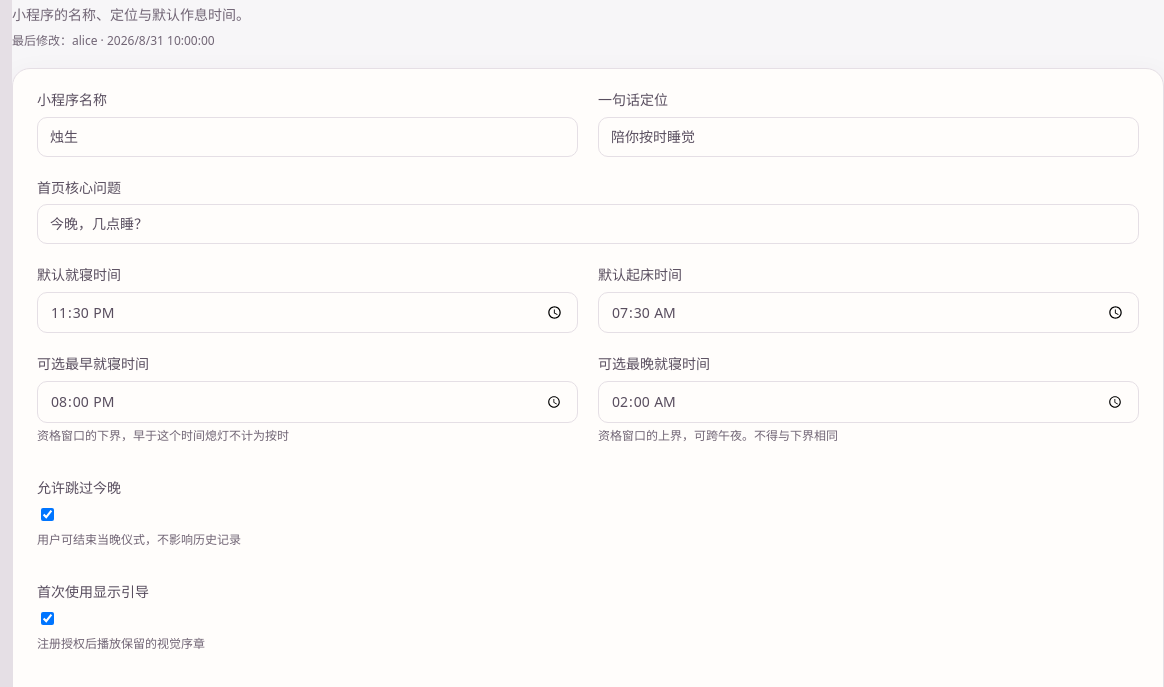
Test: 基础设置页 › 撤销改动退回原值
Replace the text in the field labelled "一句话定位" with "改坏了" at {"x": 868, "y": 137}, box x1=598 y1=117 x2=1139 y2=157
(page scrolled)
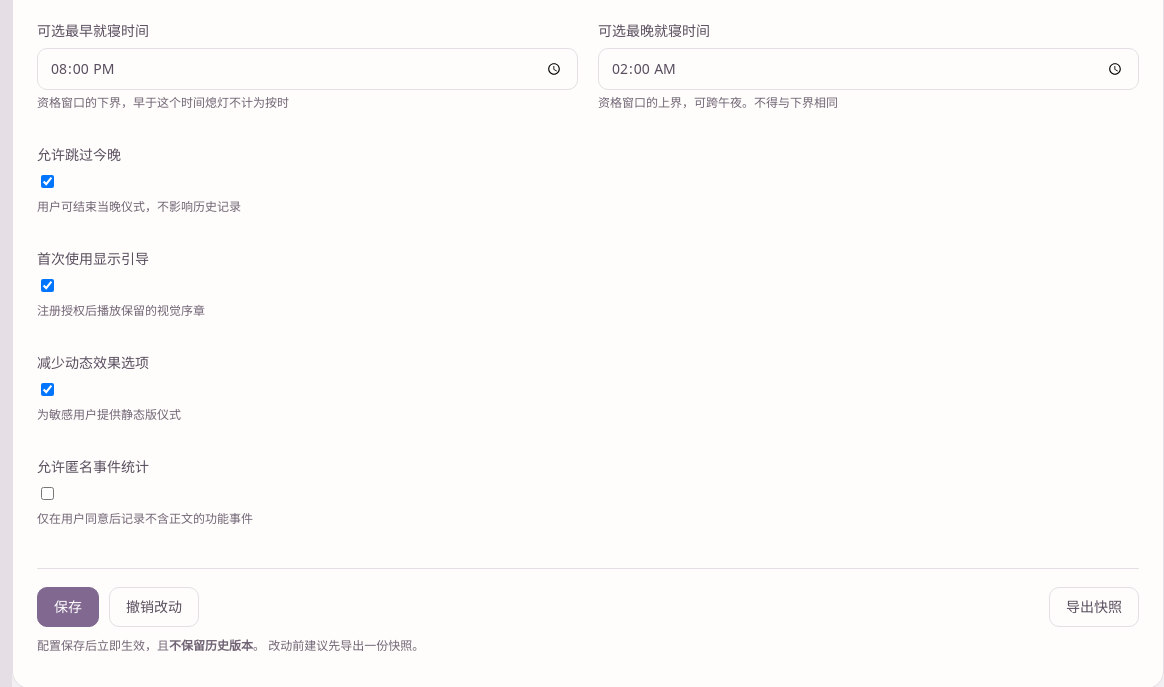
Click the button "撤销改动" at {"x": 154, "y": 607}, box x1=109 y1=587 x2=199 y2=627
(page scrolled)
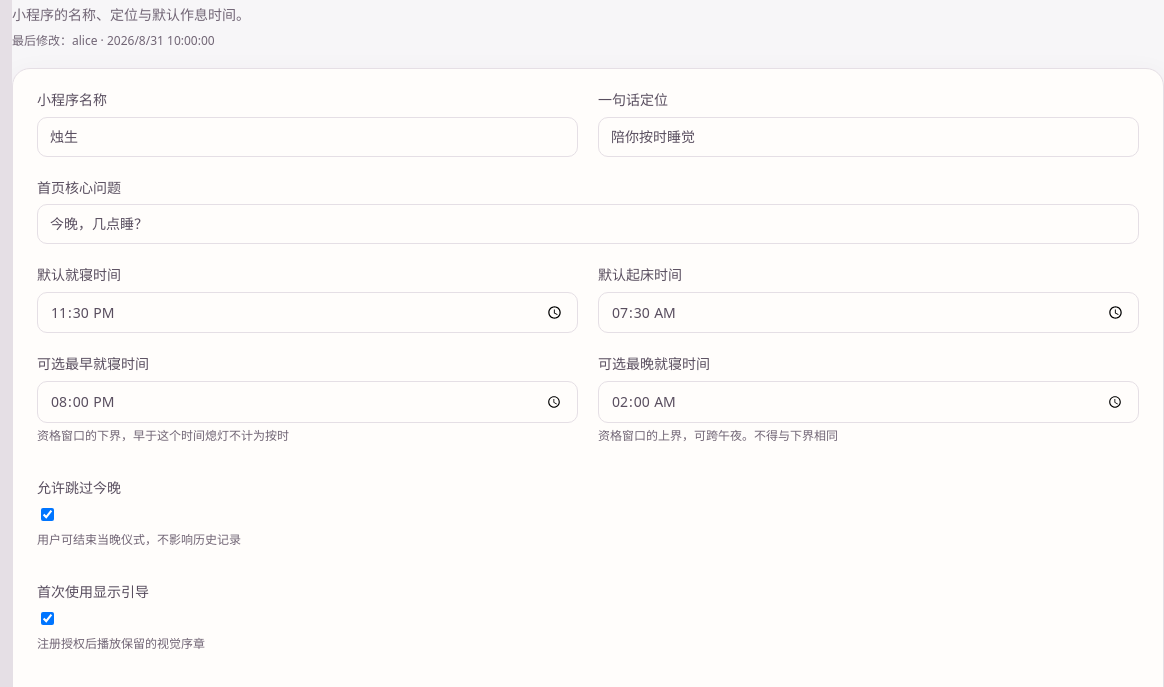
Result: the field labelled "一句话定位" holds "陪你按时睡觉" at x1=598 y1=117 x2=1139 y2=157
